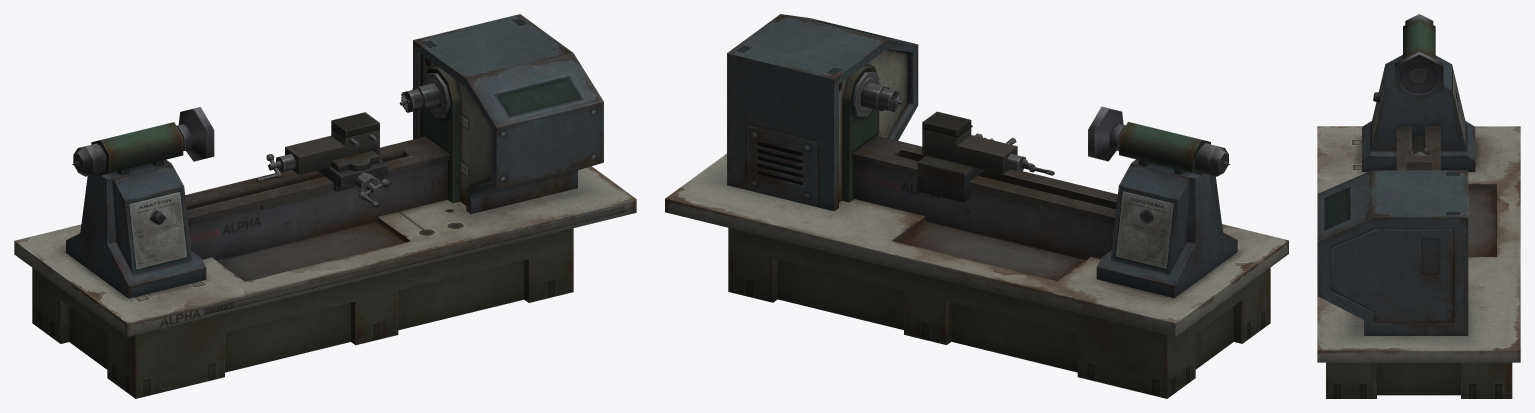
Rendered from mf_lathe001.FBX.
The picture shows the model from 3 angles, left to right: view 1: azimuth 30°, elevation 25°; view 2: azimuth 150°, elevation 25°; view 3: azimuth 270°, elevation 25°; orthographic projection. The views are drawn at different scales.
Visible parts, largest first — view 1: mf_lathe001; view 2: mf_lathe001; view 3: mf_lathe001.
Part boxes in pixels (bbox=[...]): mf_lathe001: bbox=[14, 14, 636, 398]; mf_lathe001: bbox=[665, 14, 1288, 398]; mf_lathe001: bbox=[1317, 14, 1520, 398].
Size of the model in its own units: 4.23 by 1.79 by 1.62.
